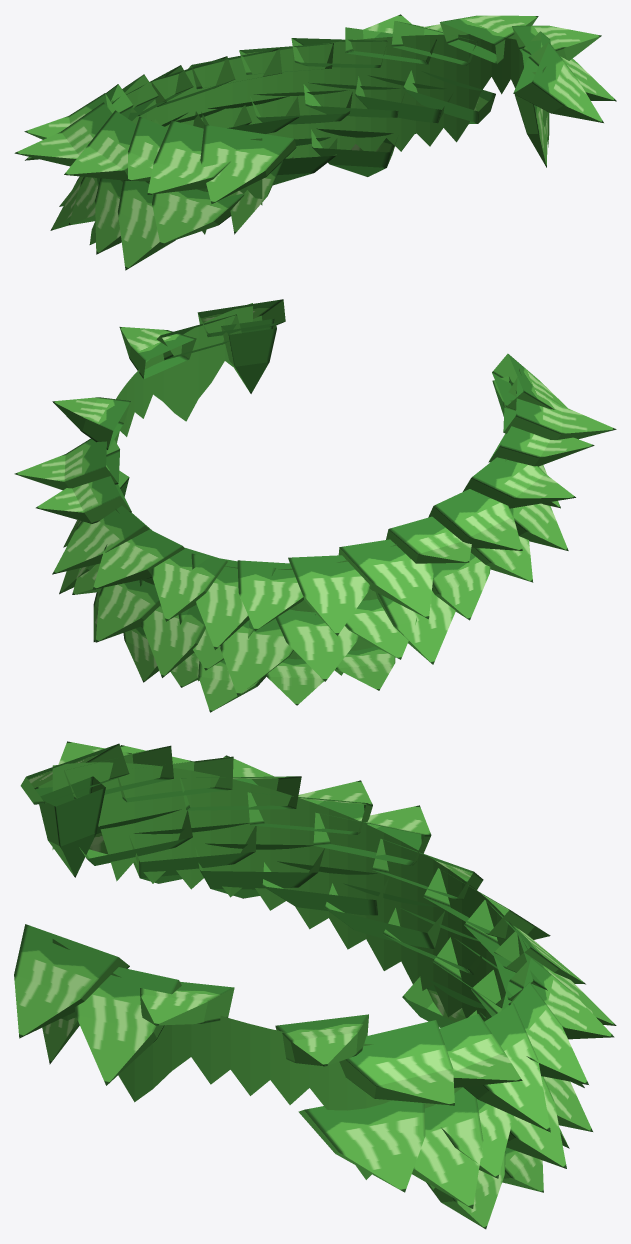
File: acc_Cheveux.fbx
3 renders of one model, top to bottom at view 1: azimuth 30°, elevation 25°; view 2: azimuth 150°, elevation 25°; view 3: azimuth 270°, elevation 25°, orthographic. The views are drawn at different scales.
Visible parts, largest first — view 1: Acc_Cheveux; view 2: Acc_Cheveux; view 3: Acc_Cheveux.
Boxes of the visible parts, box(x1,y1,x2,y2) form: Acc_Cheveux: box(14, 14, 616, 270); Acc_Cheveux: box(14, 299, 616, 712); Acc_Cheveux: box(14, 741, 616, 1229).
Bounding box in the file's own units: 160 × 73.17 × 129.
1 material, 1 textured.
